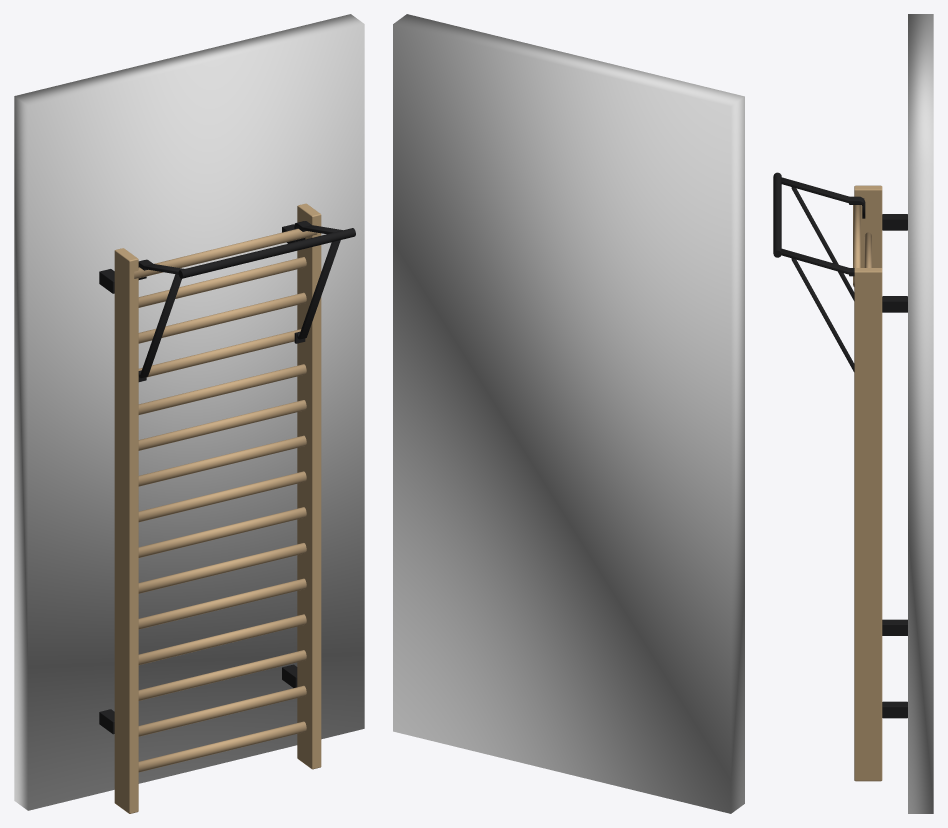
Rendered from gymleco-wooden-wall-bars-with-chins-rack_v002.glb.
3 views of the same model, side by side, from view 1: azimuth 30°, elevation 25°; view 2: azimuth 150°, elevation 25°; view 3: azimuth 270°, elevation 25° (orthographic). The views are drawn at different scales.
Visible parts, largest first — view 1: gymleco-wooden-wall-bars-with-chins-rack_wall, gymleco-wooden-wall-bars-with-chins-rack_beech, gymleco-wooden-wall-bars-with-chins-rack_pine, gymleco-wooden-wall-bars-with-chins-rack_frame.001, gymleco-wooden-wall-bars-with-chins-rack_frame.002, gymleco-wooden-wall-bars-with-chins-rack_frame; view 2: gymleco-wooden-wall-bars-with-chins-rack_wall; view 3: gymleco-wooden-wall-bars-with-chins-rack_wall, gymleco-wooden-wall-bars-with-chins-rack_pine, gymleco-wooden-wall-bars-with-chins-rack_frame.001, gymleco-wooden-wall-bars-with-chins-rack_frame, gymleco-wooden-wall-bars-with-chins-rack_beech, gymleco-wooden-wall-bars-with-chins-rack_frame.002.
Boxes of the visible parts, x1=… form: gymleco-wooden-wall-bars-with-chins-rack_wall: x1=14, y1=14, x2=364, y2=810; gymleco-wooden-wall-bars-with-chins-rack_beech: x1=134, y1=228, x2=317, y2=772; gymleco-wooden-wall-bars-with-chins-rack_pine: x1=114, y1=203, x2=321, y2=813; gymleco-wooden-wall-bars-with-chins-rack_frame.001: x1=138, y1=221, x2=342, y2=378; gymleco-wooden-wall-bars-with-chins-rack_frame.002: x1=178, y1=228, x2=355, y2=278; gymleco-wooden-wall-bars-with-chins-rack_frame: x1=99, y1=221, x2=305, y2=734; gymleco-wooden-wall-bars-with-chins-rack_wall: x1=393, y1=14, x2=744, y2=813; gymleco-wooden-wall-bars-with-chins-rack_wall: x1=908, y1=14, x2=933, y2=813; gymleco-wooden-wall-bars-with-chins-rack_pine: x1=854, y1=185, x2=882, y2=781; gymleco-wooden-wall-bars-with-chins-rack_frame.001: x1=781, y1=177, x2=865, y2=371; gymleco-wooden-wall-bars-with-chins-rack_frame: x1=849, y1=198, x2=907, y2=718; gymleco-wooden-wall-bars-with-chins-rack_beech: x1=853, y1=205, x2=871, y2=286; gymleco-wooden-wall-bars-with-chins-rack_frame.002: x1=773, y1=172, x2=781, y2=257.
Size of the model in its own units: 1.4 by 2.8 by 0.626.
